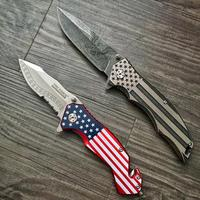knife: (18, 6, 186, 194)
